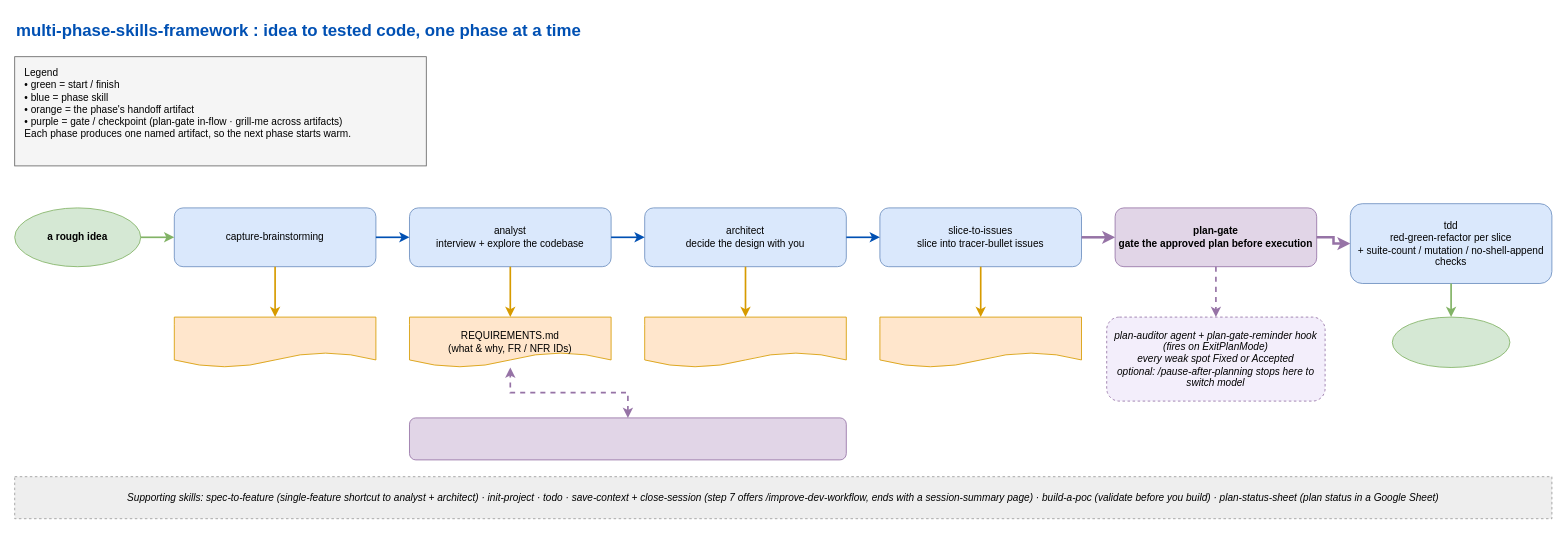
Some shapes in this 1567 by 533 pixel diagram are drawn without their labels. The shapes that lost their labels are listed below. From the top down, each one's centre as x and y in pixels, then its label:
At pixel 274 342: "BRAINSTORM.md".
At pixel 745 342: "SPEC.md + architecture.drawio (the how)".
At pixel 980 342: "issues (walking skeleton first on new plumbing)".
At pixel 1450 342: "tested code".
At pixel 627 438: "grill-me : stress-test any artifact before committing to it".
